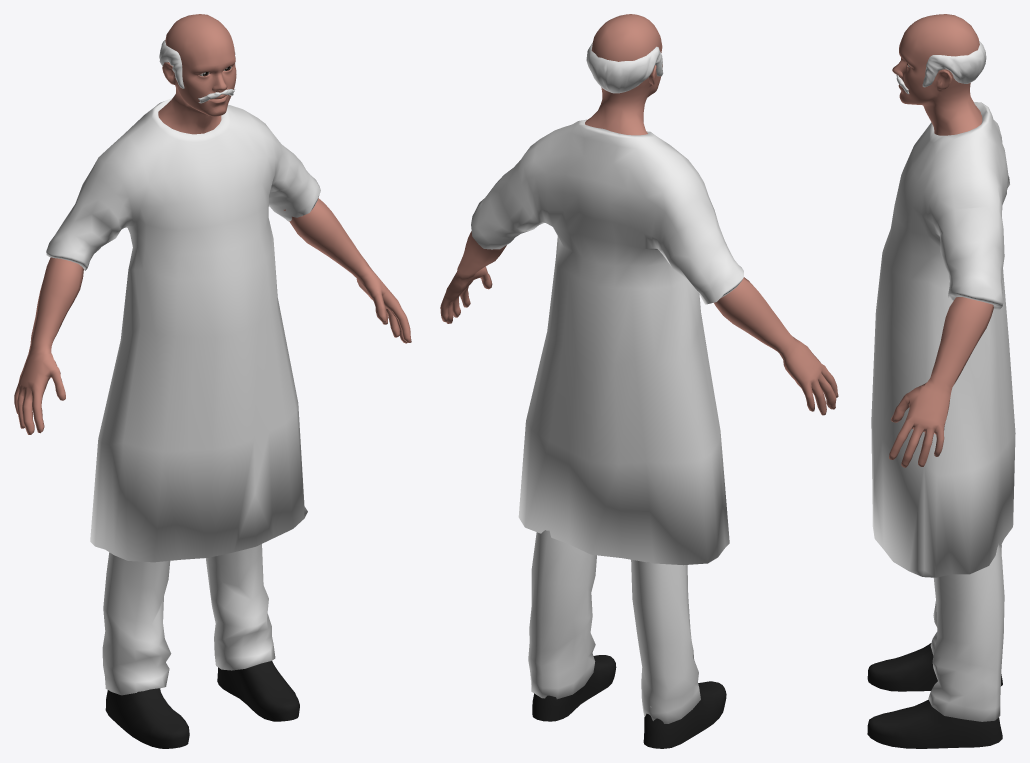
The model's file is babajee1.fbx.
3 renders of one model, left to right at view 1: azimuth 30°, elevation 25°; view 2: azimuth 150°, elevation 25°; view 3: azimuth 270°, elevation 25°, orthographic.
Visible parts, largest first — view 1: Wolf3D_Outfit_Top.001, Wolf3D_Outfit_Bottom.001, Wolf3D_Body.001, Wolf3D_Head.001, Wolf3D_Outfit_Footwear.001; view 2: Wolf3D_Outfit_Top.001, Wolf3D_Outfit_Bottom.001, Wolf3D_Body.001, Wolf3D_Head.001, Wolf3D_Outfit_Footwear.001, Wolf3D_Hair.001; view 3: Wolf3D_Outfit_Top.001, Wolf3D_Outfit_Bottom.001, Wolf3D_Outfit_Footwear.001, Wolf3D_Head.001, Wolf3D_Body.001, Wolf3D_Hair.001.
Part boxes in pixels (<box>): Wolf3D_Outfit_Top.001: <box>46,98,320,562</box>; Wolf3D_Outfit_Bottom.001: <box>102,544,275,695</box>; Wolf3D_Body.001: <box>14,198,411,434</box>; Wolf3D_Head.001: <box>158,14,236,134</box>; Wolf3D_Outfit_Footwear.001: <box>105,661,299,748</box>; Wolf3D_Outfit_Top.001: <box>471,119,743,565</box>; Wolf3D_Outfit_Bottom.001: <box>528,530,700,723</box>; Wolf3D_Body.001: <box>440,231,838,415</box>; Wolf3D_Head.001: <box>585,14,662,135</box>; Wolf3D_Outfit_Footwear.001: <box>532,655,726,748</box>; Wolf3D_Hair.001: <box>586,42,663,93</box>; Wolf3D_Outfit_Top.001: <box>871,102,1015,577</box>; Wolf3D_Outfit_Bottom.001: <box>928,544,1004,721</box>; Wolf3D_Outfit_Footwear.001: <box>867,643,1002,748</box>; Wolf3D_Head.001: <box>892,14,982,135</box>; Wolf3D_Body.001: <box>889,297,993,467</box>; Wolf3D_Hair.001: <box>922,41,986,87</box>.
Size of the model in its own units: 106 by 183 by 35.4.
9 materials, 3 textured.
